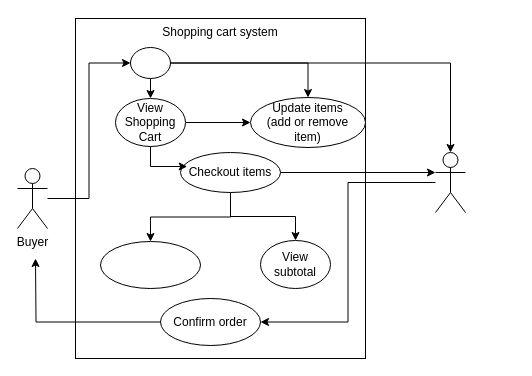
The diagram is 532 pixels wide and 376 high, and some of its shapes have lost their labels. Here are the shapes that lost their labels. From the top down, the box of each, then its label:
(130, 46, 170, 78): Login
(434, 152, 466, 212): Database authentication
(100, 240, 200, 288): Enter credit card information
